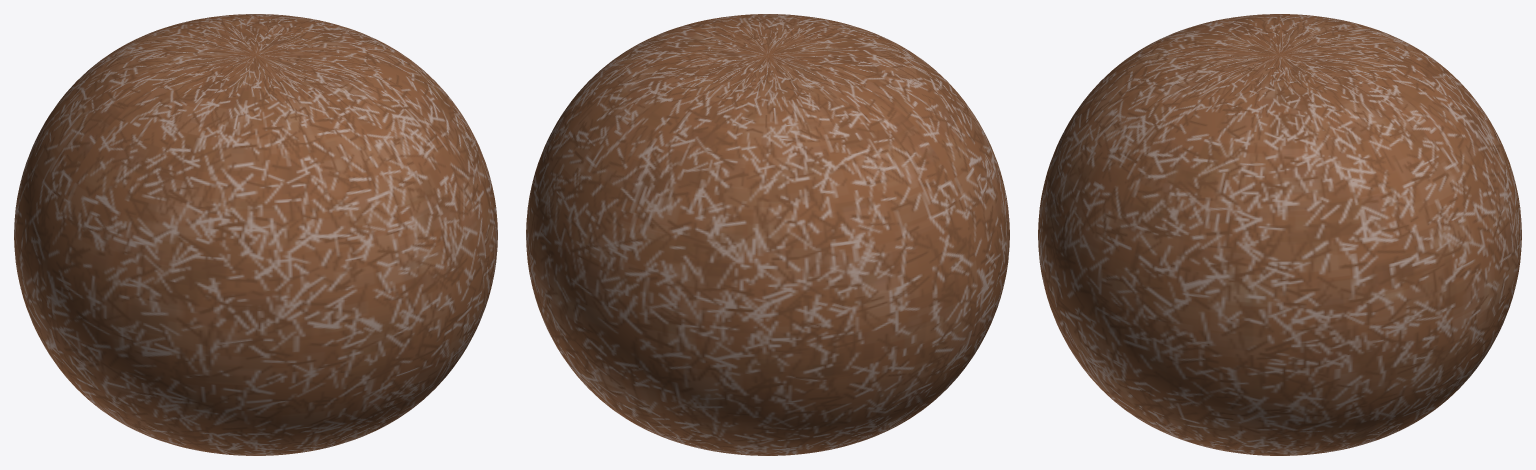
The model's file is coconut.glb.
3 views of the same model, side by side, from view 1: azimuth 30°, elevation 25°; view 2: azimuth 150°, elevation 25°; view 3: azimuth 270°, elevation 25° (orthographic).
Size of the model in its own units: 0.17 by 0.1394 by 0.17.
Materials: 1 (1 with a texture image).
